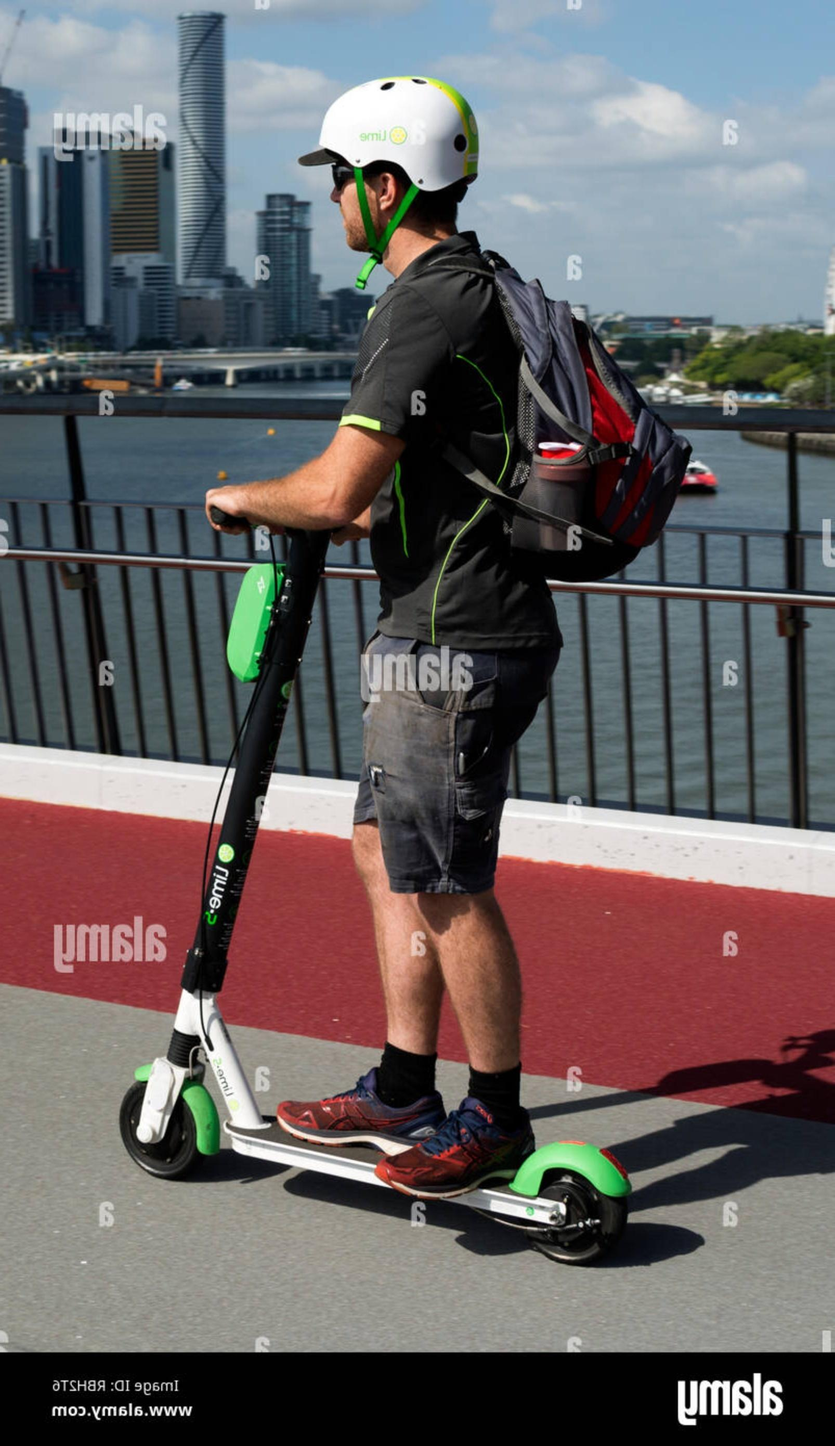helmet: (257, 55, 537, 311)
human: (221, 84, 558, 1193)
kickboard: (105, 1087, 643, 1250)
